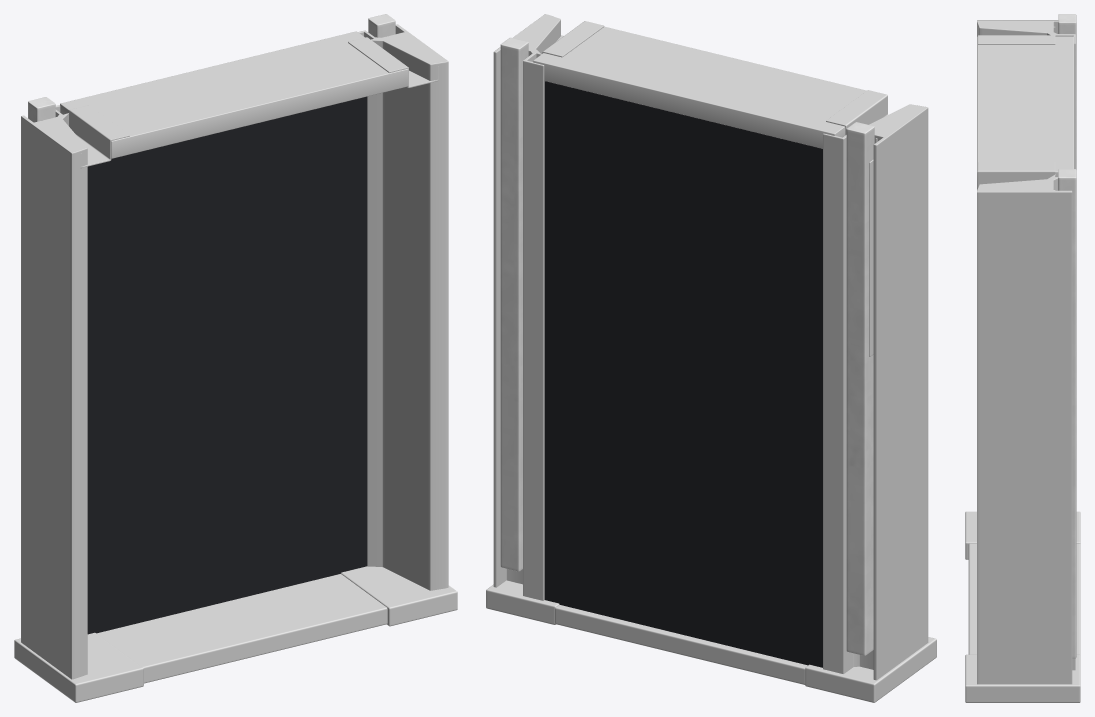
The model's file is SM_Kitchen_02_Drawer_01.obj.
3 renders of one model, left to right at view 1: azimuth 30°, elevation 25°; view 2: azimuth 150°, elevation 25°; view 3: azimuth 270°, elevation 25°, orthographic. The views are drawn at different scales.
Parts seen in each view (by area): view 1: SM_Kitchen_02_Drawer_01; view 2: SM_Kitchen_02_Drawer_01; view 3: SM_Kitchen_02_Drawer_01.
Part boxes in pixels (<box>): SM_Kitchen_02_Drawer_01: <box>14,14,457,702</box>; SM_Kitchen_02_Drawer_01: <box>486,14,936,702</box>; SM_Kitchen_02_Drawer_01: <box>965,14,1080,702</box>.
Size of the model in its own units: 0.362 by 0.5029 by 0.101.
3 materials, 3 textured.
